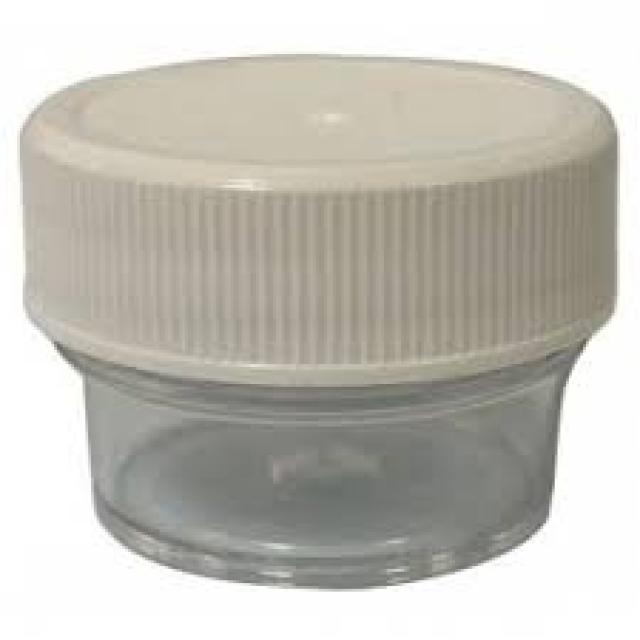Dry Waste: (18, 52, 623, 592)
